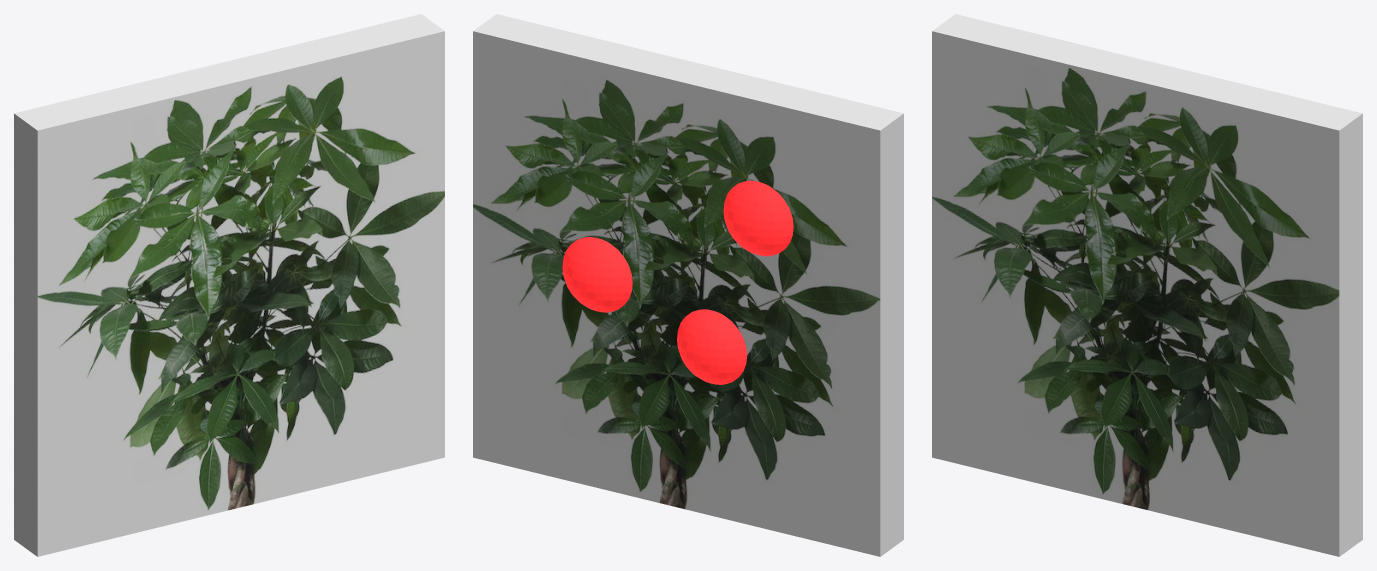
Rendered from tomato_3.dae.
3 views of the same model, side by side, from view 1: azimuth 30°, elevation 25°; view 2: azimuth 150°, elevation 25°; view 3: azimuth 330°, elevation 25° (orthographic).
Parts seen in each view (by area): view 1: Cube; view 2: Cube, Sphere.002, Sphere.001, Sphere; view 3: Cube.
Boxes of the visible parts, x1,y1,x2,y2 form: Cube: (14, 14, 444, 556); Cube: (473, 14, 903, 556); Sphere.002: (677, 309, 747, 384); Sphere.001: (562, 237, 632, 312); Sphere: (723, 180, 793, 256); Cube: (932, 14, 1362, 556).
Bounding box in the file's own units: 1 × 0.15 × 1.
4 materials, 1 textured.
